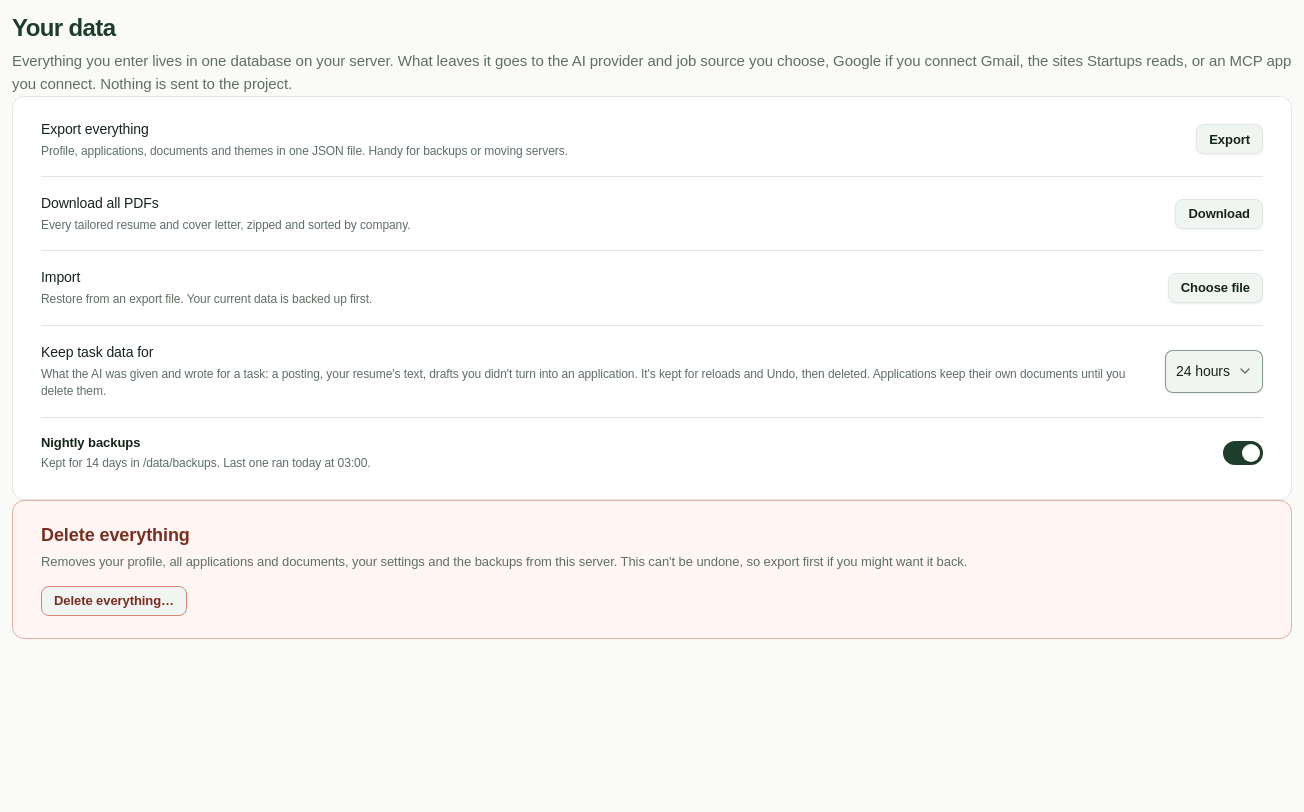
Test: Delete everything (E10-8) › deletes once DELETE is typed
Later steps or results of the test are not shown.
Expected: the element "Delete everything" shows "and the backups from this server. This can't be undone, so export first", [12, 500, 1292, 639]
Click the button "Delete everything…": (114, 601) [41, 586, 187, 616]
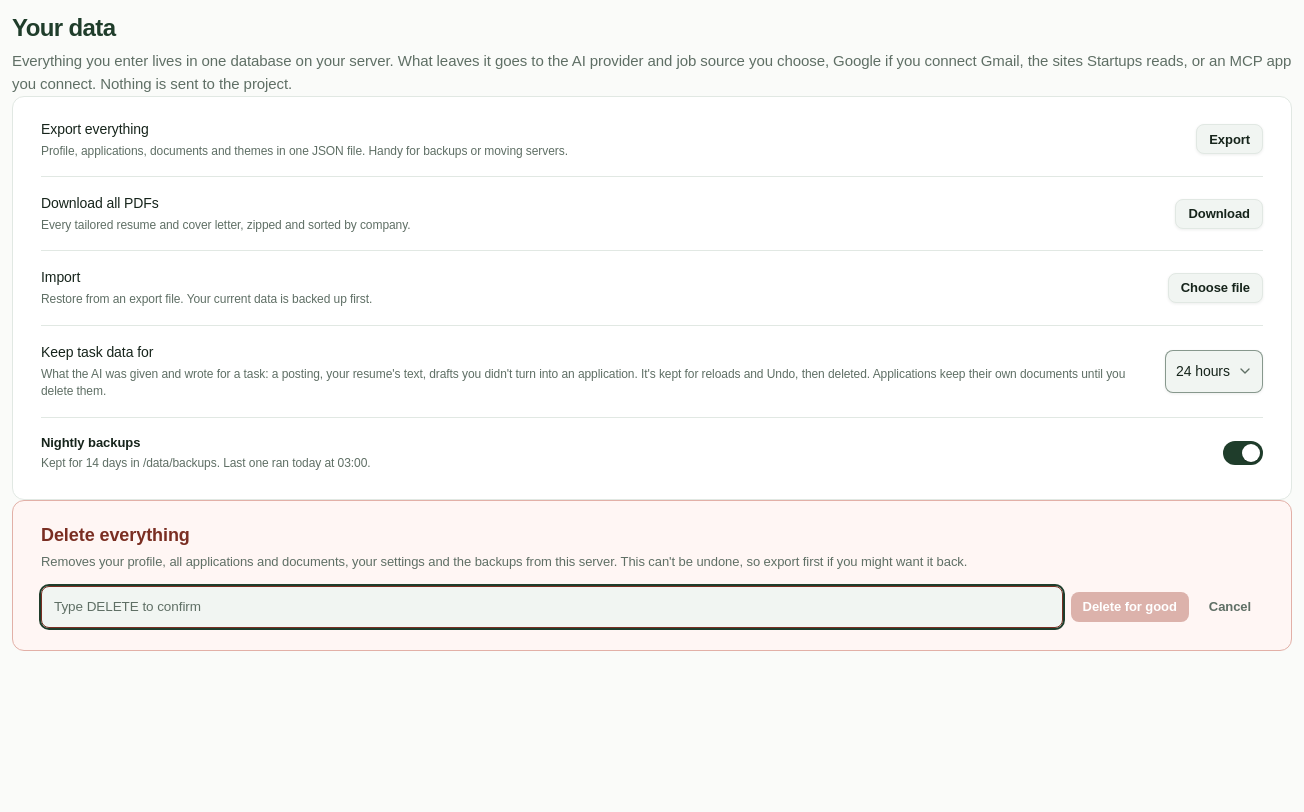
In the field labelled "Type DELETE to confirm": (552, 607) [41, 586, 1063, 628], type "DELETE"
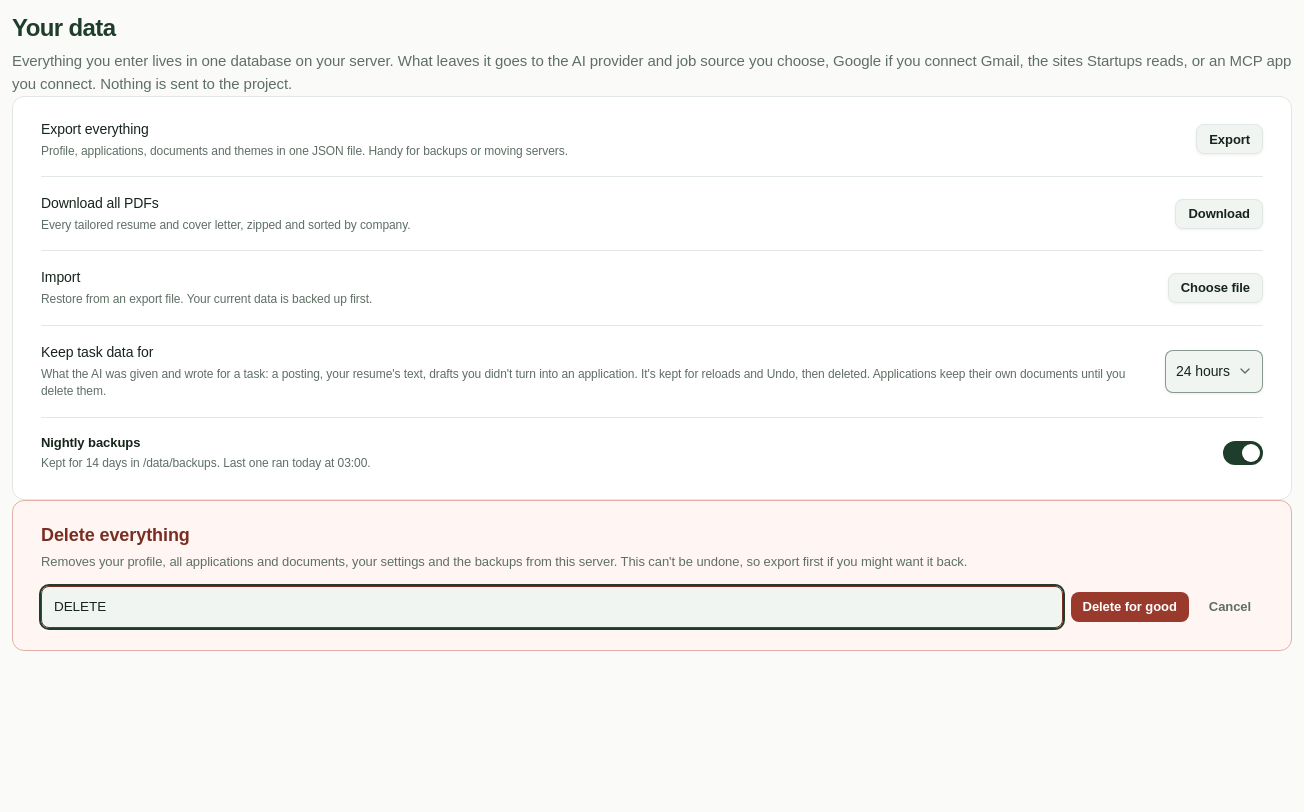
Now the button "Delete for good" does not have attribute aria-disabled, box [1071, 592, 1189, 622]
